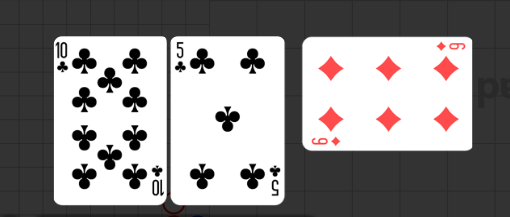10C: (149, 163, 164, 197)
5C: (267, 163, 282, 197)
6D: (435, 41, 467, 52)
